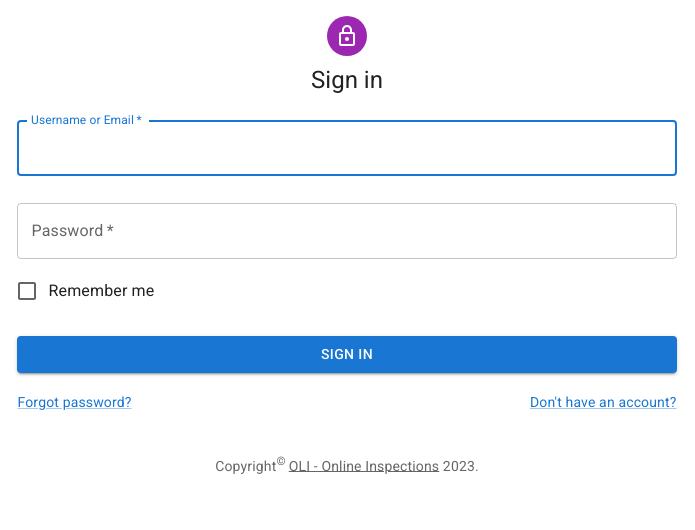
LoginForm Component › shows an error message for an invalid username or email
The width and height of the screenshot is (695, 530).
Type "test!User" into the field with test id "username" at (347, 148), box 18,120 -> 676,176
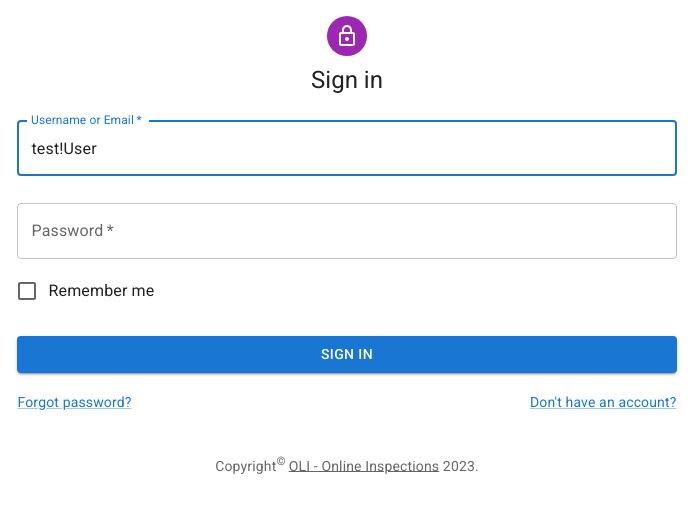
Click the button with test id "sign-in-button" at (347, 354), box 18,336 -> 676,372
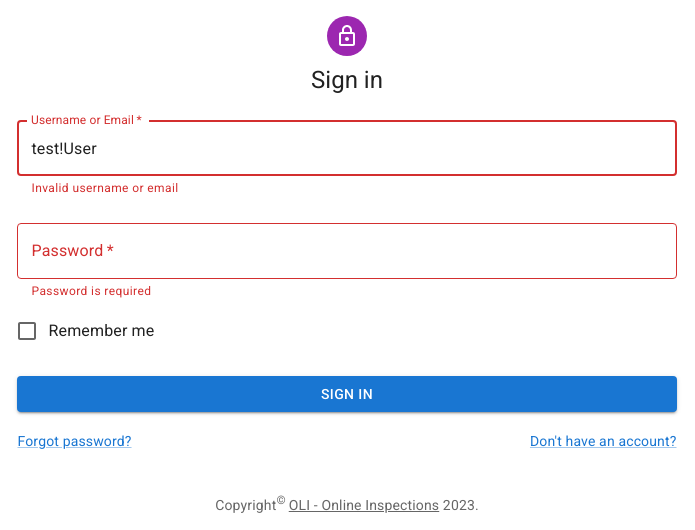
Result: the text "Invalid username or email" is shown at 32,181 -> 179,195
